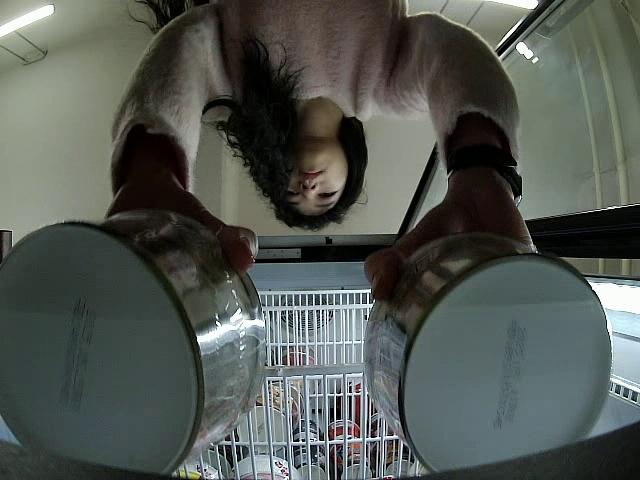00_hand: (364, 194, 536, 302), (101, 177, 261, 275)
03_chapagetti_L: (0, 206, 267, 477), (363, 233, 613, 475)
